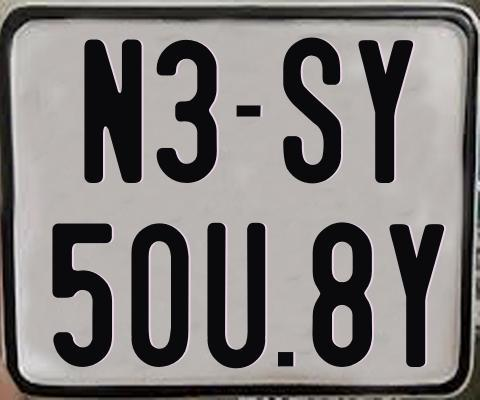0: (130, 220, 189, 369)
3: (156, 37, 221, 182)
5: (51, 221, 117, 368)
8: (312, 221, 375, 369)
N: (81, 38, 141, 186)
S: (283, 37, 347, 187)
U: (205, 221, 266, 372)
Y: (358, 38, 419, 185), (386, 222, 445, 367)
